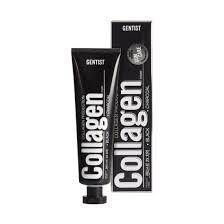toothpaste: (67, 45, 116, 206)
